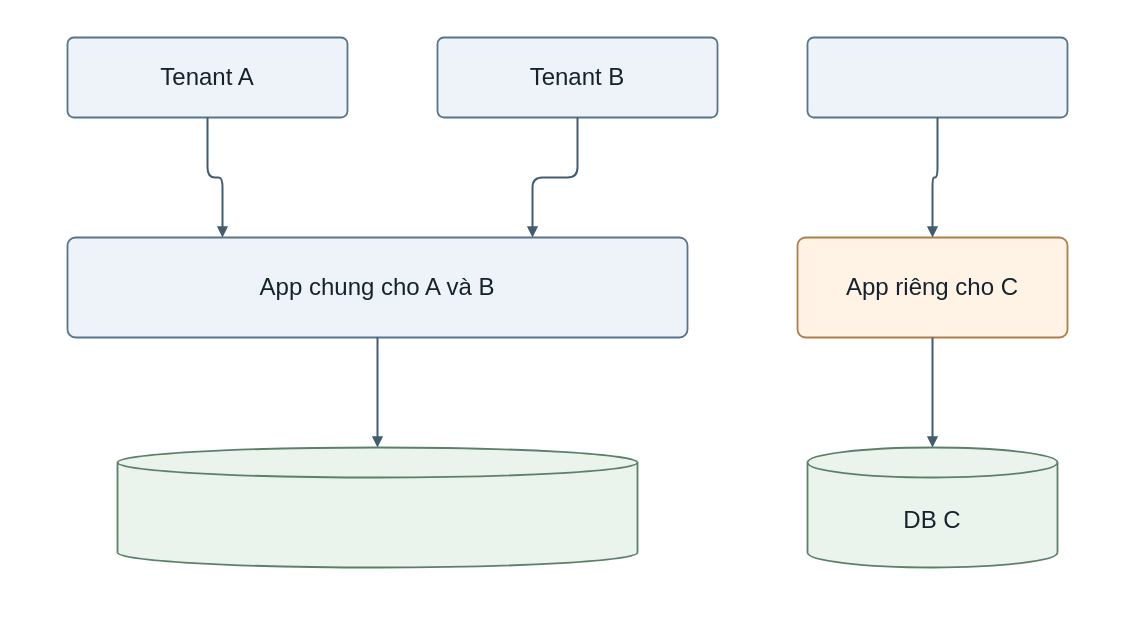
Some shapes in this 1134 by 634 pixel diagram are drawn without their labels. Each missing label, with the box of its shape:
DB chung: dữ liệu A và B: (116, 446, 638, 568)
Tenant C: (806, 36, 1068, 118)
